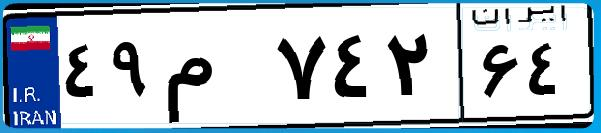2: (385, 28, 445, 110)
4: (330, 28, 385, 110), (57, 26, 110, 100), (525, 38, 570, 115)
6: (475, 38, 525, 113)
7: (270, 28, 330, 110)
9: (110, 28, 158, 98)
م: (158, 20, 270, 120)
